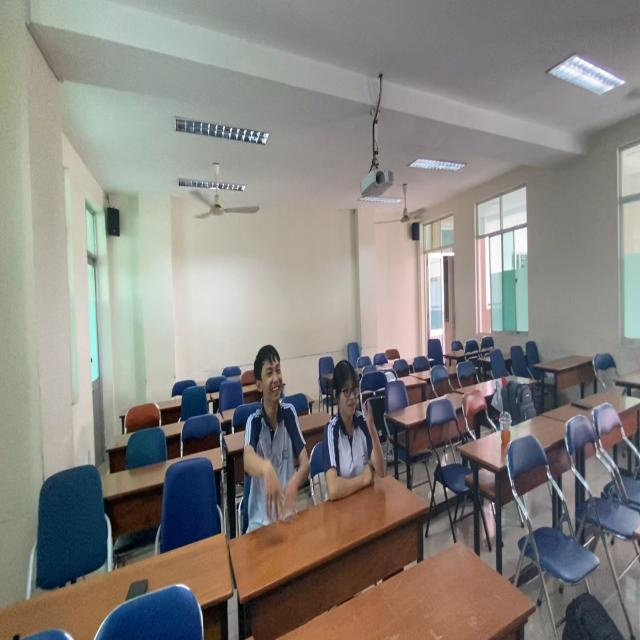raise_hand: (322, 358, 391, 502)
